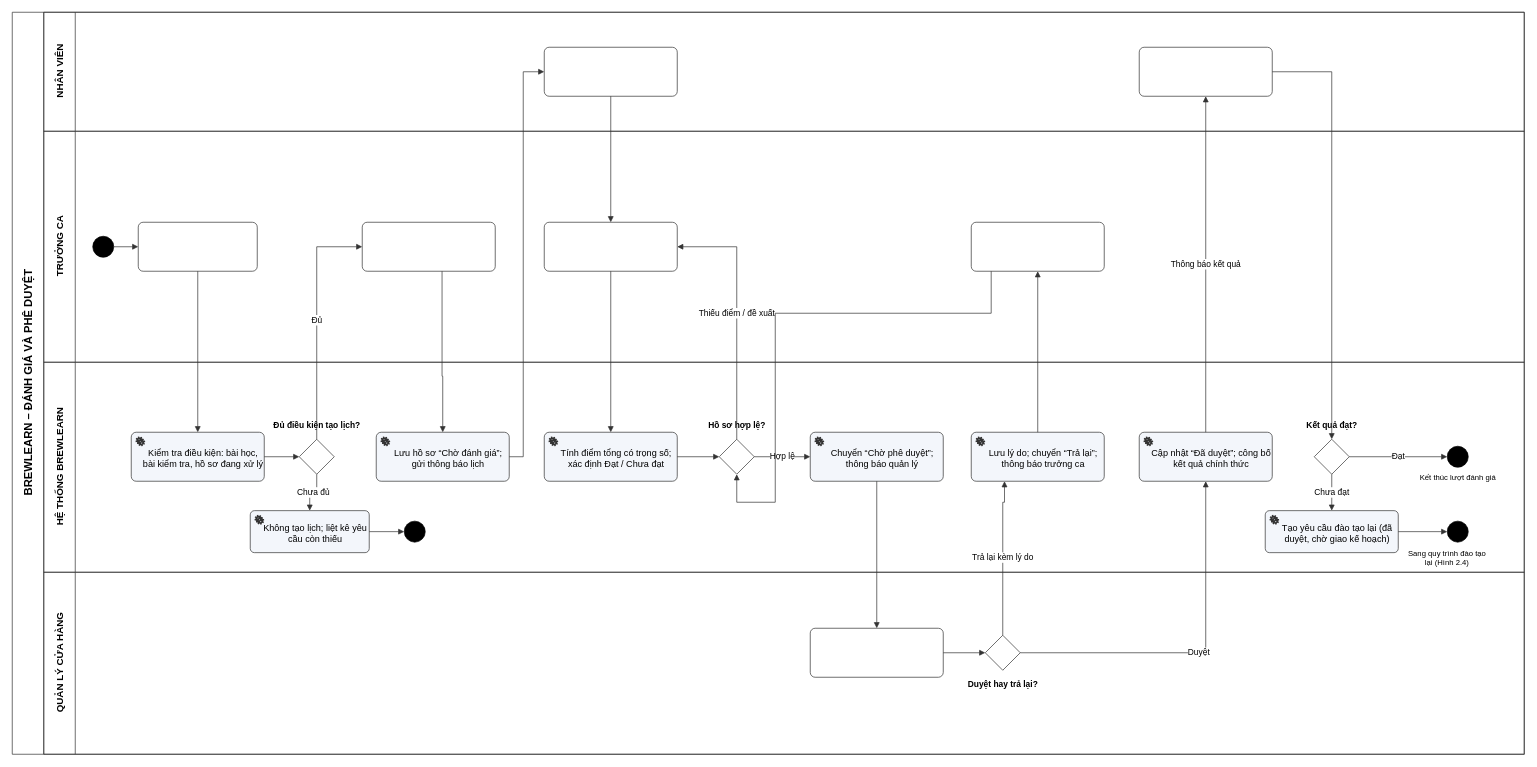
Image size: 1537x767. Some labels were removed from this diagram. The shapes that lost their labels are listed below. From the top down, each one's centre as x and y in pixels, then its label:
At point (610, 71): "Nhận thông báo; tham gia đúng lịch".
At point (1205, 71): "Nhận kết quả chính thức".
At point (197, 246): "Chọn nhân viên thuộc phạm vi phụ trách".
At point (428, 246): "Nhập lịch hẹn và tiêu chuẩn đánh giá".
At point (610, 246): "Chấm 5 tiêu chí; nhận xét; Chưa đạt: kèm đề xuất".
At point (1037, 246): "Bổ sung đánh giá bị trả lại".
At point (876, 652): "Xem xét kết quả, nội dung đề xuất; tham khảo cảnh báo".
